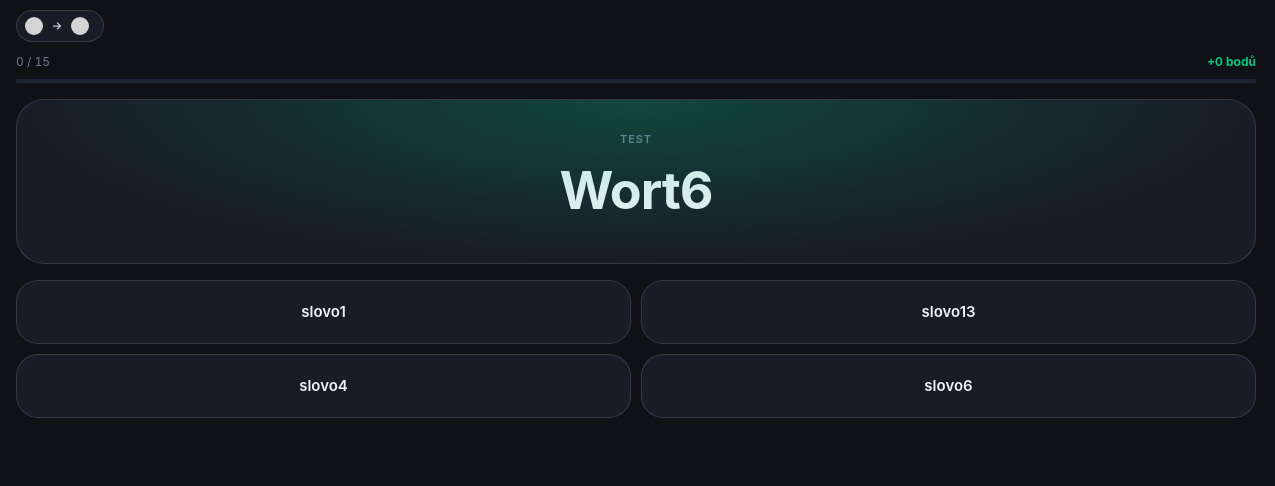
Test: po výběru odpovědi se zobrazí FeedbackBar
Click the button "slovo1".
click(324, 312)  # box [16,280,631,344]
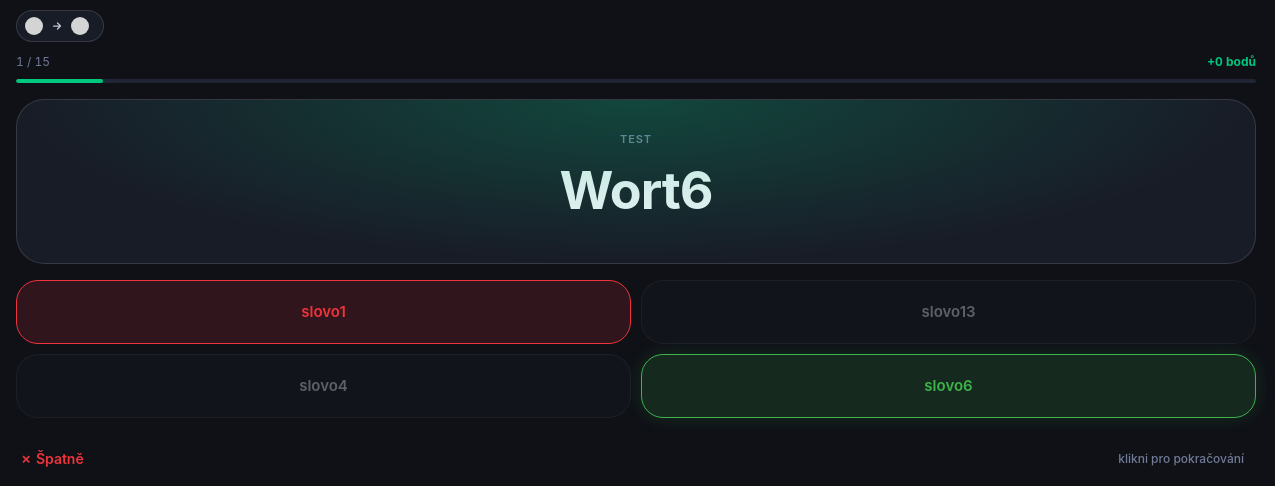
Expected: the button "klikni pro pokračování" is shown, [1110,447,1252,470]
